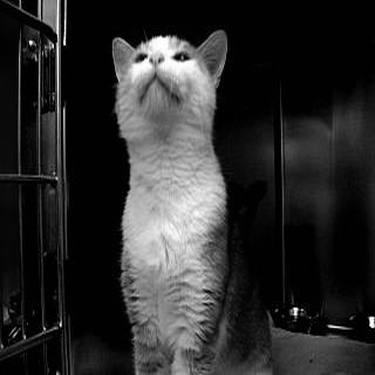cat: (107, 29, 278, 371)
